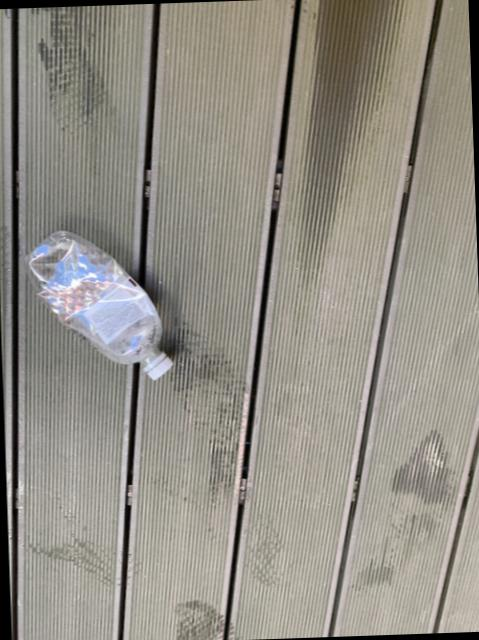plastic: (27, 232, 173, 380)
